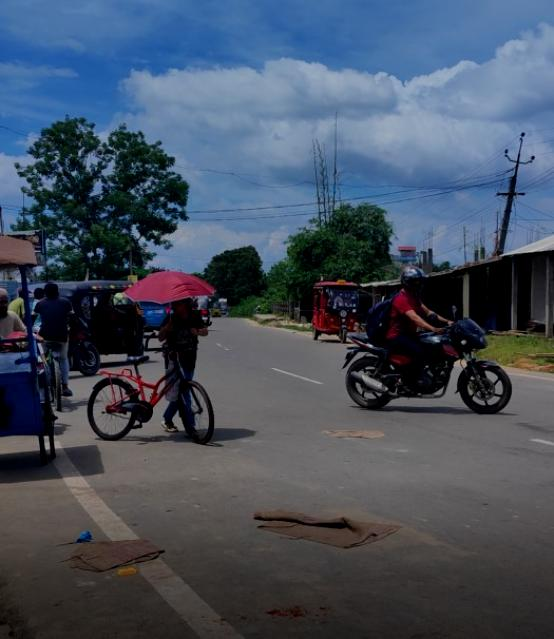motorcycle: (340, 265, 512, 413)
withHelmet: (401, 265, 430, 294)
